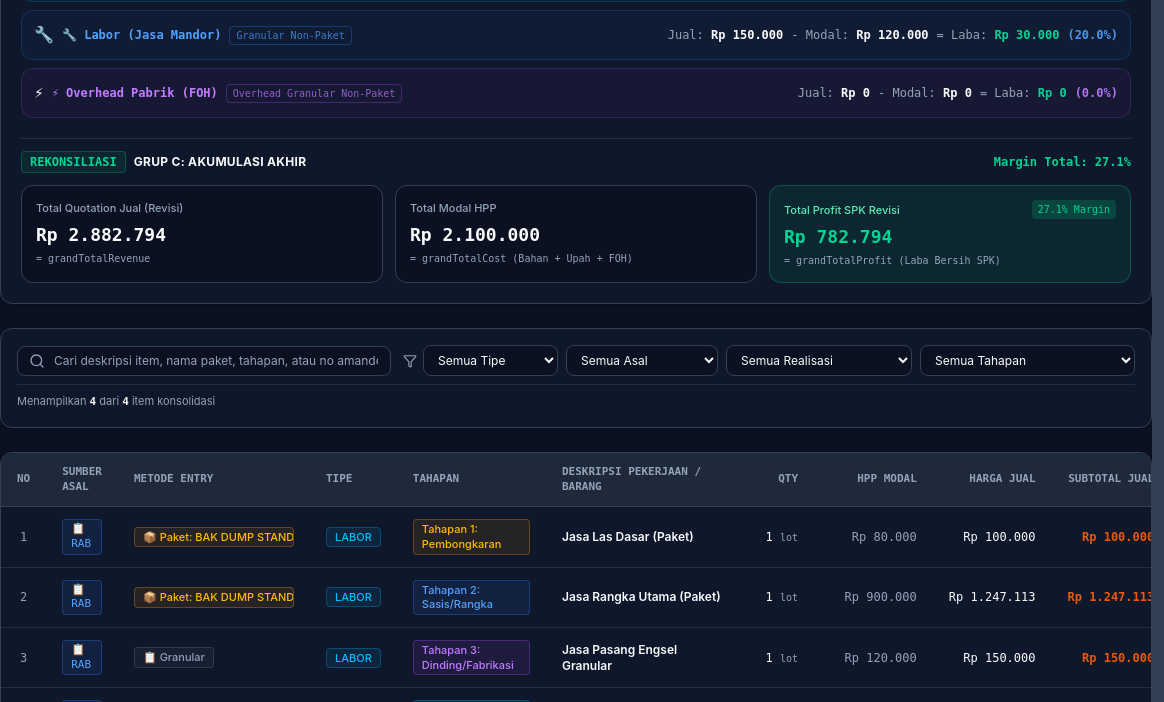
Test: RabPerubahanTab Component › aggregates all labor items including package assembly components and matches empirical totals
(page scrolled)
Expected: the text "Jasa Las Dasar (Paket)" is shown, [562,529,694,544]
Expected: the text "Rp 30.000" is shown, [994,28,1059,42]
Note: Filter by type: LABOR
Select "Labor (Jasa)" in the dropdown named "Filter Tipe" at [490, 361], box [423,346,558,376]
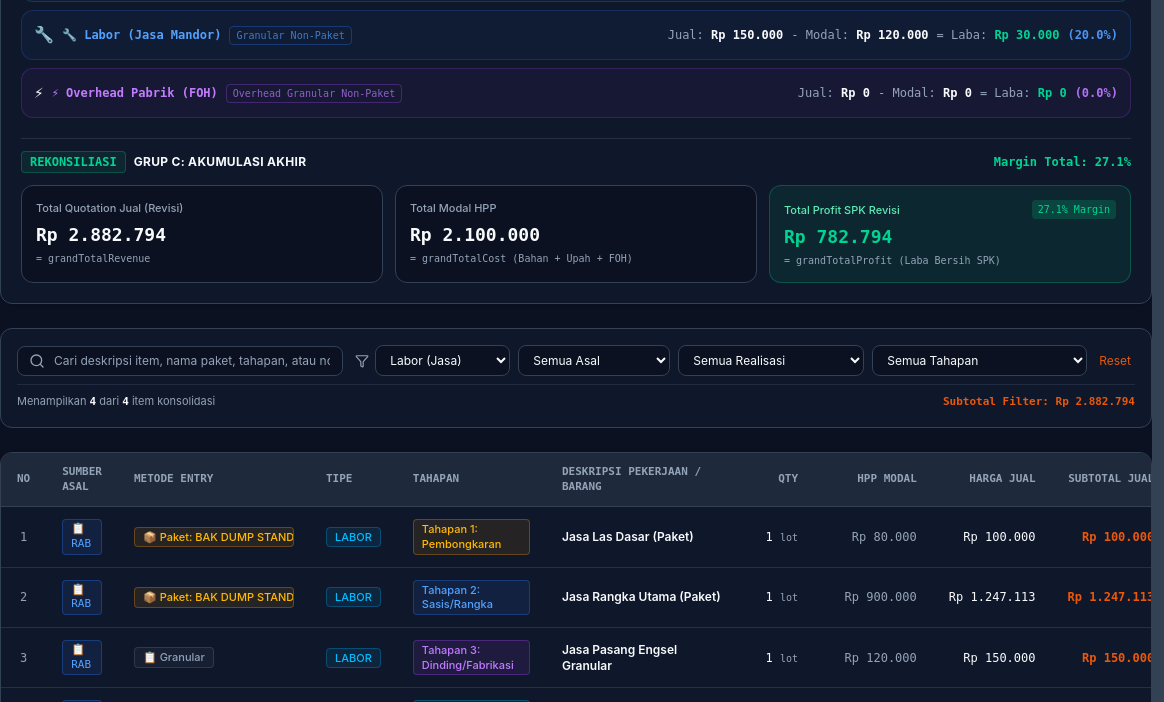
Now the text "Subtotal Filter: Rp 2.882.794" is shown, box [943,394,1135,410]
